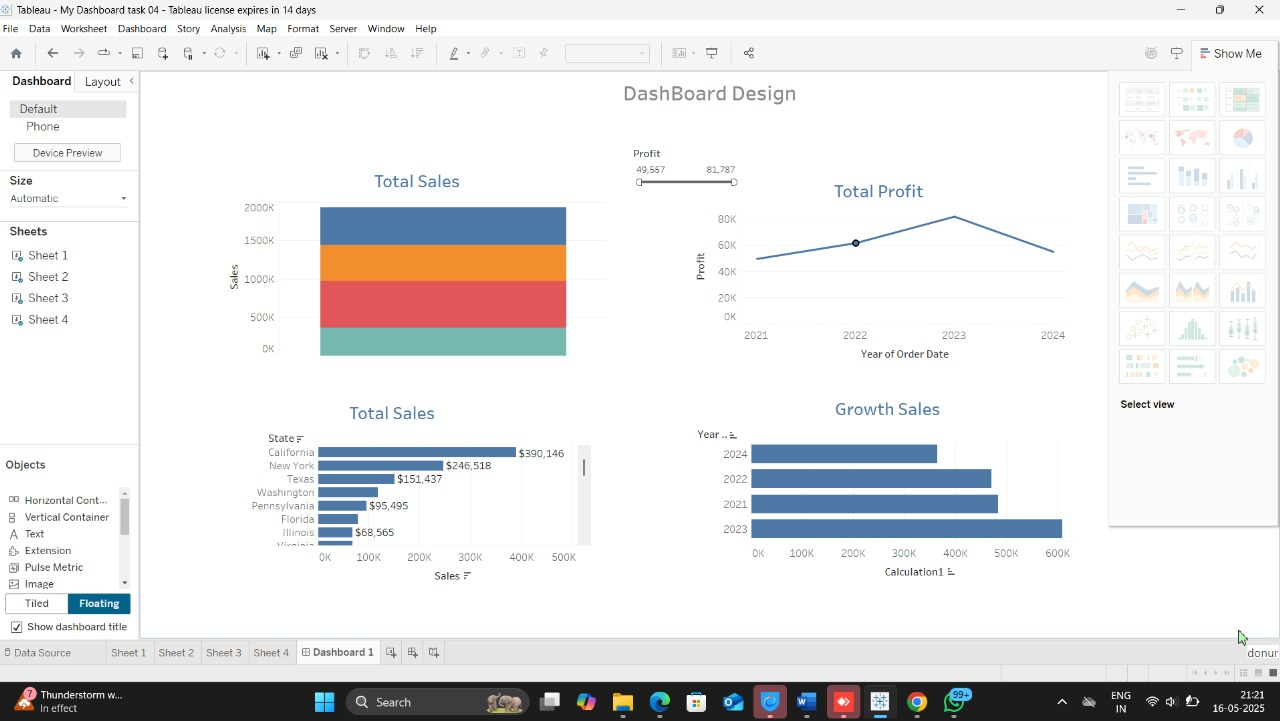

The page's visual inventory and layout, read from the dashboard file:
{"tool":"tableau","page":{"name":"Dashboard 1","canvas":[1000,1000],"units":"permille","ordinal":0},"visuals":[{"type":"title","box":[4.7,9.4,990.6,57.6]},{"type":"filter","title":"Sheet 3","param":"[federated.0ywgzqk0wfei521ehr0zx1jra2xy].[sum:Profit:qk]","box":[432.9,134,93.7,76.4]},{"type":"worksheet","title":"Sheet 1","mark":"Bar","rows":["Sales"],"box":[76.7,169.2,333.3,332.6]},{"type":"worksheet","title":"Sheet 3","mark":"Automatic","rows":["Profit"],"cols":["Order Date"],"box":[481.6,186.8,333.3,332.6]},{"type":"worksheet","title":"Sheet 4","mark":"Bar","rows":["Order Date"],"cols":["Calculation_1582452329620123648"],"box":[489.2,569.9,333.3,332.6]},{"type":"worksheet","title":"Sheet 2","mark":"Automatic","rows":["State"],"cols":["Sales"],"box":[62.7,577,333.3,332.6]}]}

Visuals, with their boxes on the dashboard's canvas, which has no fixed pixel size, in thousandths of its width and height (x1, y1, x2, y2). These are canvas units, not pixel positions in the 1280x721 screenshot, which may show the page scaled, cropped or inside an application window:
title: 5/9/995/67
"Sheet 3" filter: 433/134/527/210
"Sheet 1" worksheet (Bar marks): 77/169/410/502
"Sheet 3" worksheet: 482/187/815/519
"Sheet 4" worksheet (Bar marks): 489/570/822/902
"Sheet 2" worksheet: 63/577/396/910
